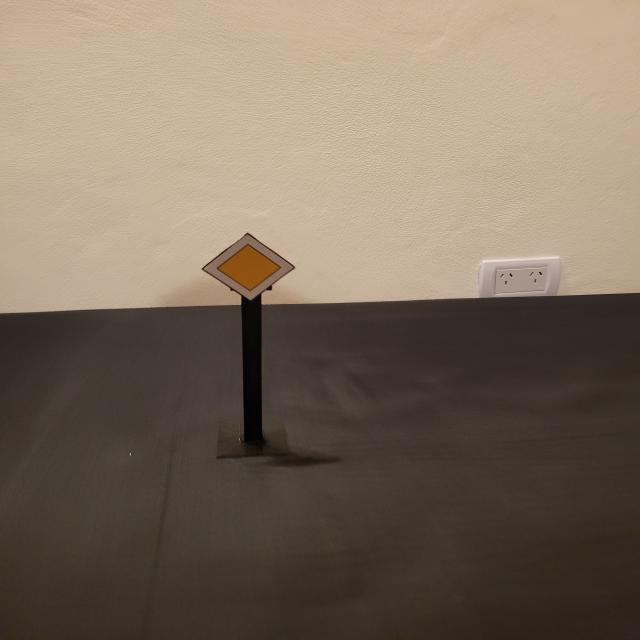priority: (201, 233, 296, 302)
